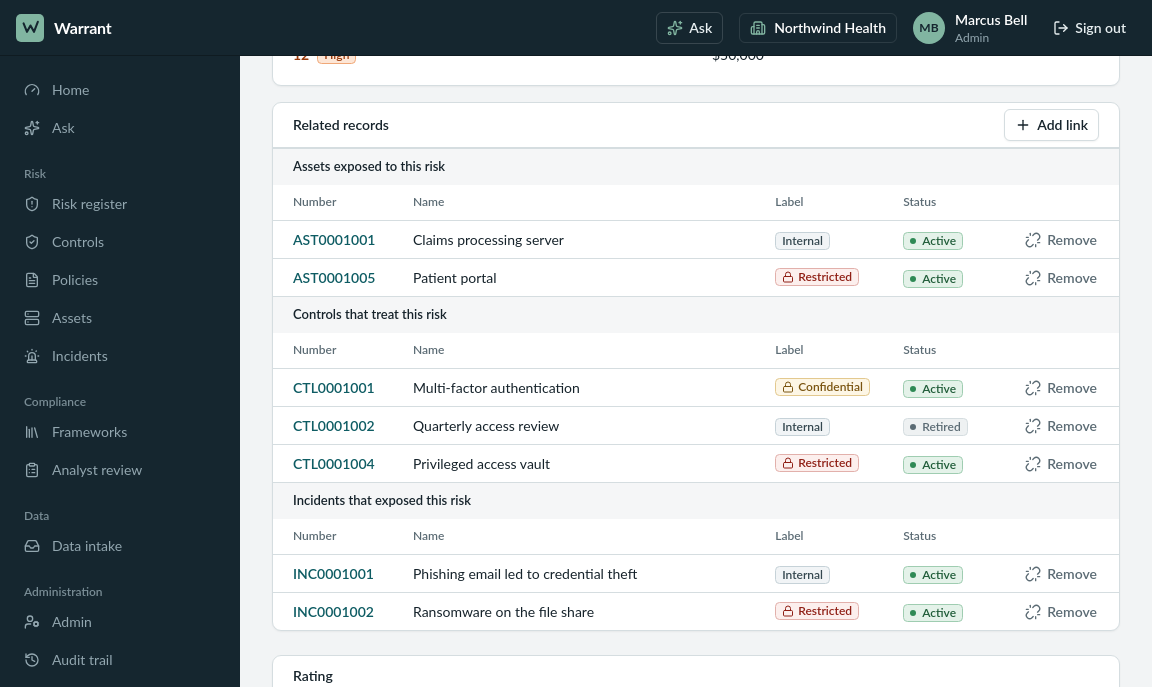
Test: any other error › 500 internal_error shows the API’s message and reference ID
The width and height of the screenshot is (1152, 687).
(page scrolled)
Expected: the row "CTL0001001" is shown, left=273, top=368, right=1119, bottom=406
Step 1. Click the button "Remove" in the row of "CTL0001001" → click(1061, 388), box left=1015, top=374, right=1107, bottom=402
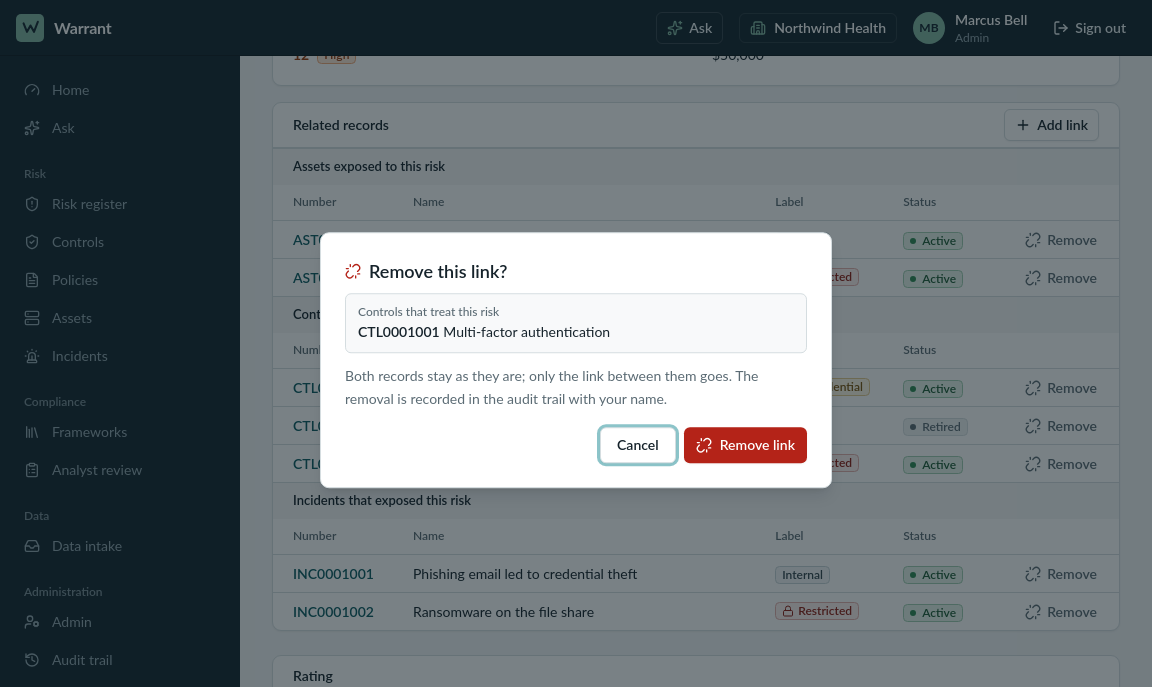
Step 2. Click the button "Remove link" → click(745, 445), box left=684, top=427, right=807, bottom=463
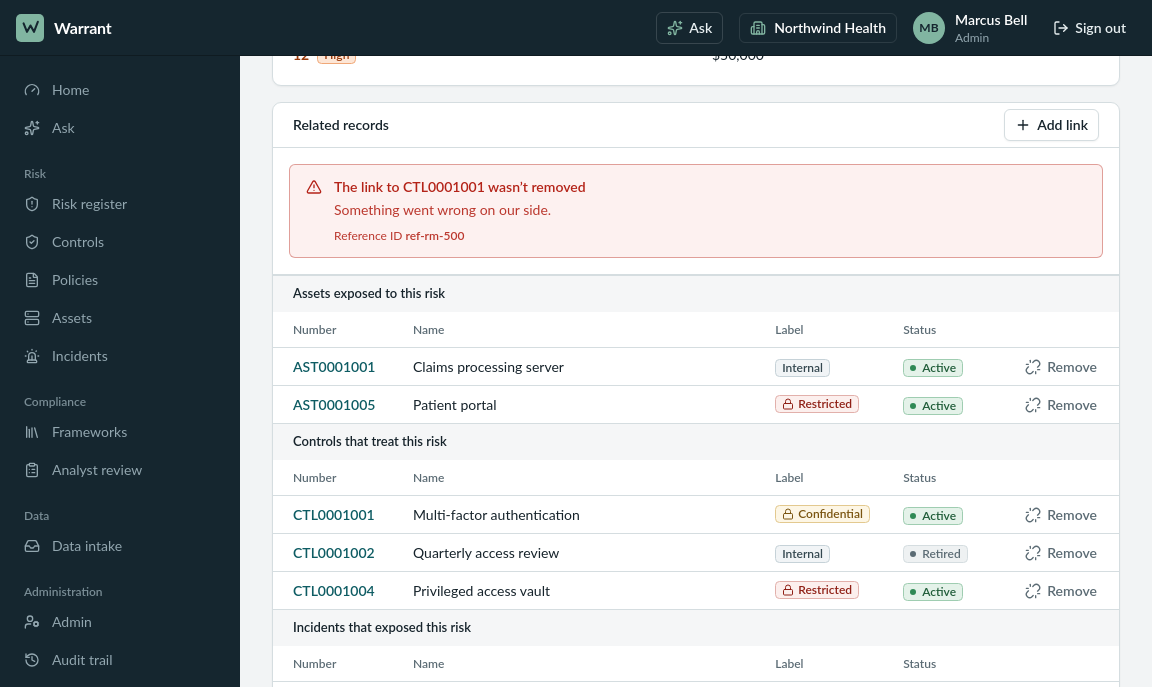
Expected: the row "CTL0001001" is shown, left=273, top=496, right=1119, bottom=534
Expected: the text "Something went wrong on our side." is shown, left=334, top=199, right=551, bottom=222
Expected: the text "ref-rm-500" is shown, left=406, top=228, right=464, bottom=243
